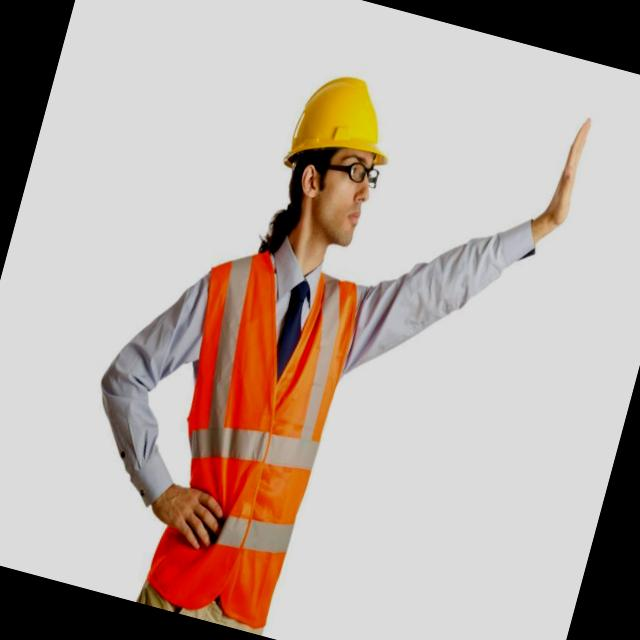goggles: (270, 133, 390, 214)
helmet: (275, 65, 409, 194)
vest: (131, 226, 370, 608)
